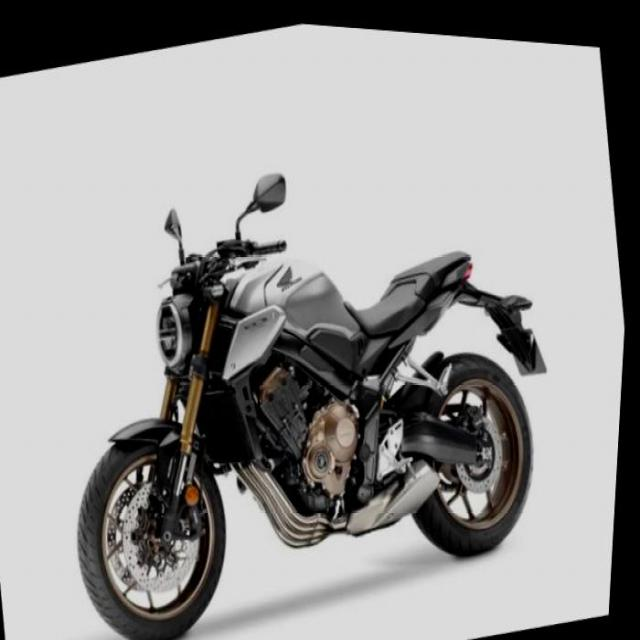CB650R: (40, 162, 569, 639)
